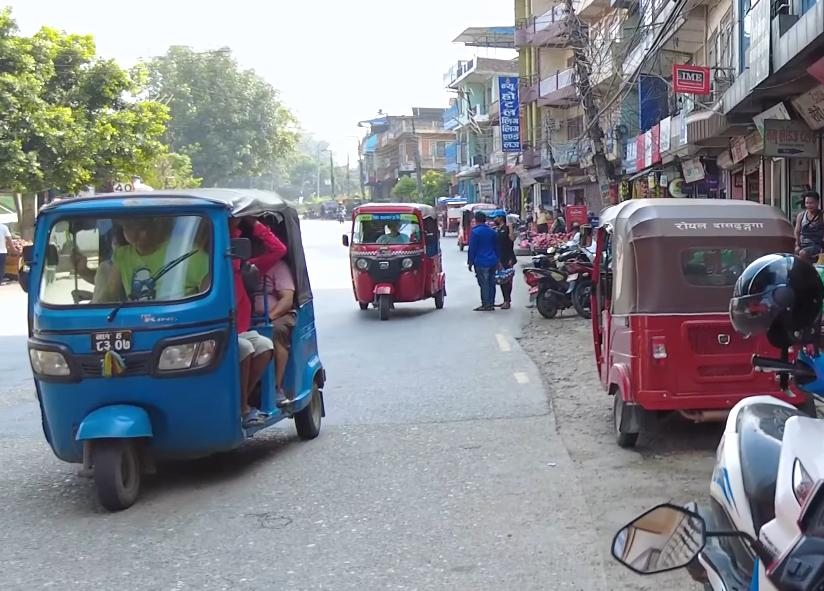auto_rickshaw: (15, 181, 334, 512), (581, 197, 821, 456), (338, 198, 449, 322)
scooter: (668, 347, 824, 580), (516, 262, 573, 326)
